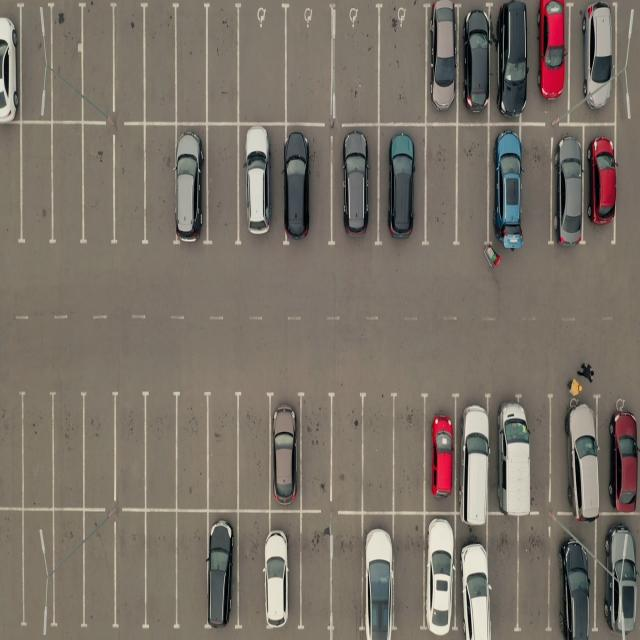space-empty: (286, 7, 337, 124), (238, 5, 288, 123), (375, 5, 424, 124), (332, 6, 380, 124), (45, 513, 87, 630), (15, 126, 53, 248), (517, 514, 556, 632), (204, 5, 242, 123), (46, 2, 84, 119), (175, 4, 212, 124), (78, 392, 116, 508), (142, 4, 179, 123), (176, 394, 214, 509), (112, 396, 150, 511), (205, 125, 242, 243), (78, 129, 115, 247), (79, 512, 116, 630), (17, 394, 54, 511), (17, 512, 54, 629), (50, 395, 87, 511), (111, 5, 148, 121), (142, 512, 178, 631), (50, 128, 86, 247), (112, 124, 148, 243), (457, 125, 492, 247), (328, 395, 366, 507), (392, 398, 429, 513), (143, 393, 180, 508), (78, 2, 114, 120), (331, 514, 366, 635), (205, 394, 241, 510), (115, 512, 150, 631), (141, 123, 176, 242), (238, 394, 274, 508), (358, 396, 394, 510), (423, 123, 457, 243), (235, 512, 269, 632), (296, 395, 332, 508), (296, 513, 330, 632), (394, 514, 427, 636), (486, 516, 519, 636), (15, 4, 49, 120), (177, 512, 210, 631), (523, 125, 554, 245), (0, 386, 24, 507), (0, 509, 24, 628), (0, 127, 22, 248)
space-occupied: (550, 389, 602, 514), (282, 128, 330, 247), (490, 393, 535, 518), (571, 0, 617, 121), (382, 122, 428, 240), (332, 129, 378, 245), (240, 124, 283, 245), (553, 519, 597, 636), (456, 392, 496, 514), (599, 518, 640, 637), (532, 0, 572, 119), (601, 398, 640, 517), (492, 1, 529, 122), (422, 514, 458, 637), (424, 6, 460, 124), (422, 394, 458, 512), (458, 518, 493, 638), (265, 512, 300, 631), (488, 126, 522, 248), (361, 514, 394, 637), (267, 393, 302, 508), (176, 128, 210, 246), (552, 127, 586, 243), (205, 510, 237, 630), (462, 8, 495, 124), (583, 127, 614, 236), (0, 4, 21, 123)
